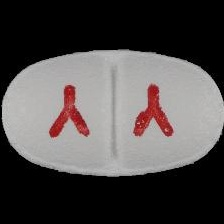0024-5800: (0, 0, 224, 224)
